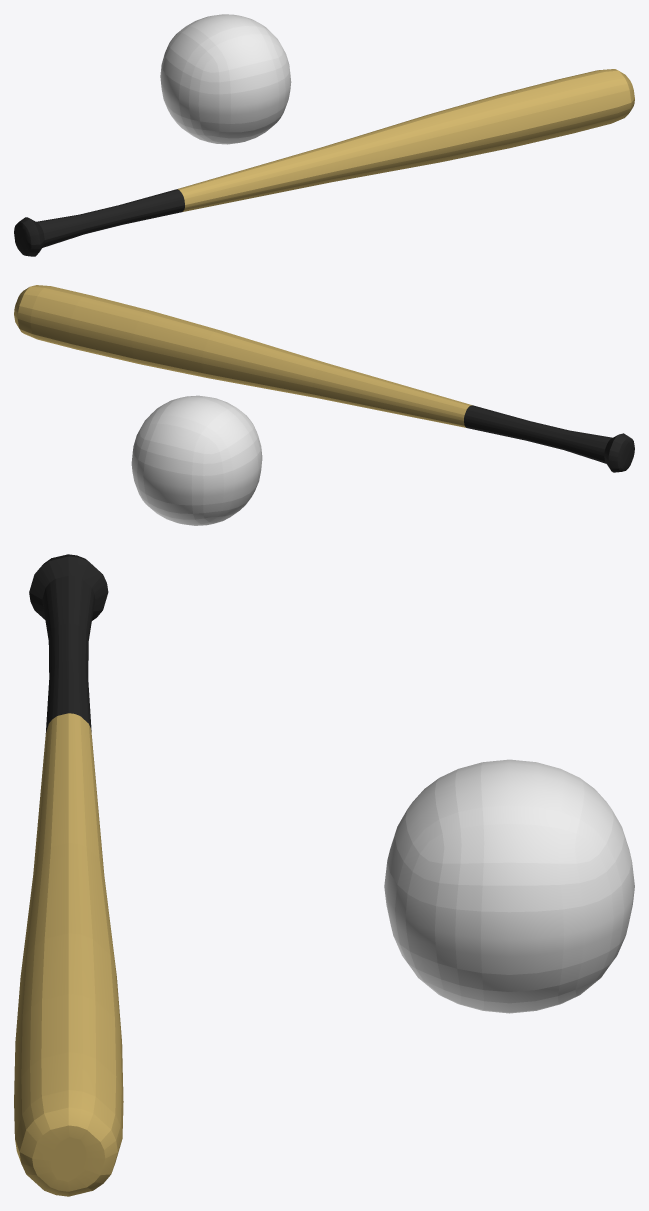
The model's file is baseball.fbx.
3 views of the same model, one above another, from view 1: azimuth 30°, elevation 25°; view 2: azimuth 150°, elevation 25°; view 3: azimuth 270°, elevation 25° (orthographic). The views are drawn at different scales.
Visible parts, largest first — view 1: _Baseball_bat_v1_max2011_iteration_2:_Baseball_bat_v1_max8, _baseball_v1_L3:Box001; view 2: _Baseball_bat_v1_max2011_iteration_2:_Baseball_bat_v1_max8, _baseball_v1_L3:Box001; view 3: _baseball_v1_L3:Box001, _Baseball_bat_v1_max2011_iteration_2:_Baseball_bat_v1_max8.
Boxes of the visible parts, x1,y1,x2,y2 form: _Baseball_bat_v1_max2011_iteration_2:_Baseball_bat_v1_max8: [14, 69, 634, 256]; _baseball_v1_L3:Box001: [160, 14, 291, 144]; _Baseball_bat_v1_max2011_iteration_2:_Baseball_bat_v1_max8: [14, 285, 634, 472]; _baseball_v1_L3:Box001: [131, 395, 262, 525]; _baseball_v1_L3:Box001: [384, 759, 634, 1013]; _Baseball_bat_v1_max2011_iteration_2:_Baseball_bat_v1_max8: [14, 554, 123, 1196].
Size of the model in its own units: 384 by 70.69 by 175.
